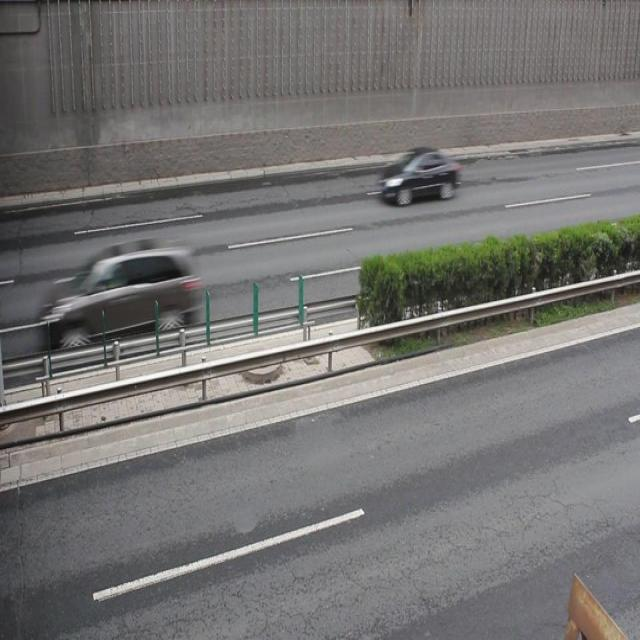car: (41, 236, 199, 348), (383, 142, 459, 205)
